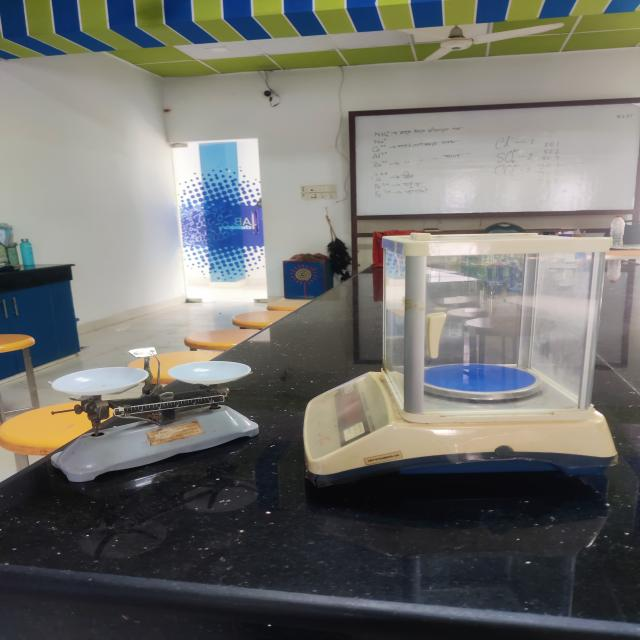Mechanical_Balance_Scale: (26, 351, 262, 490)
Precision_Weight_Scale: (293, 221, 618, 523)
